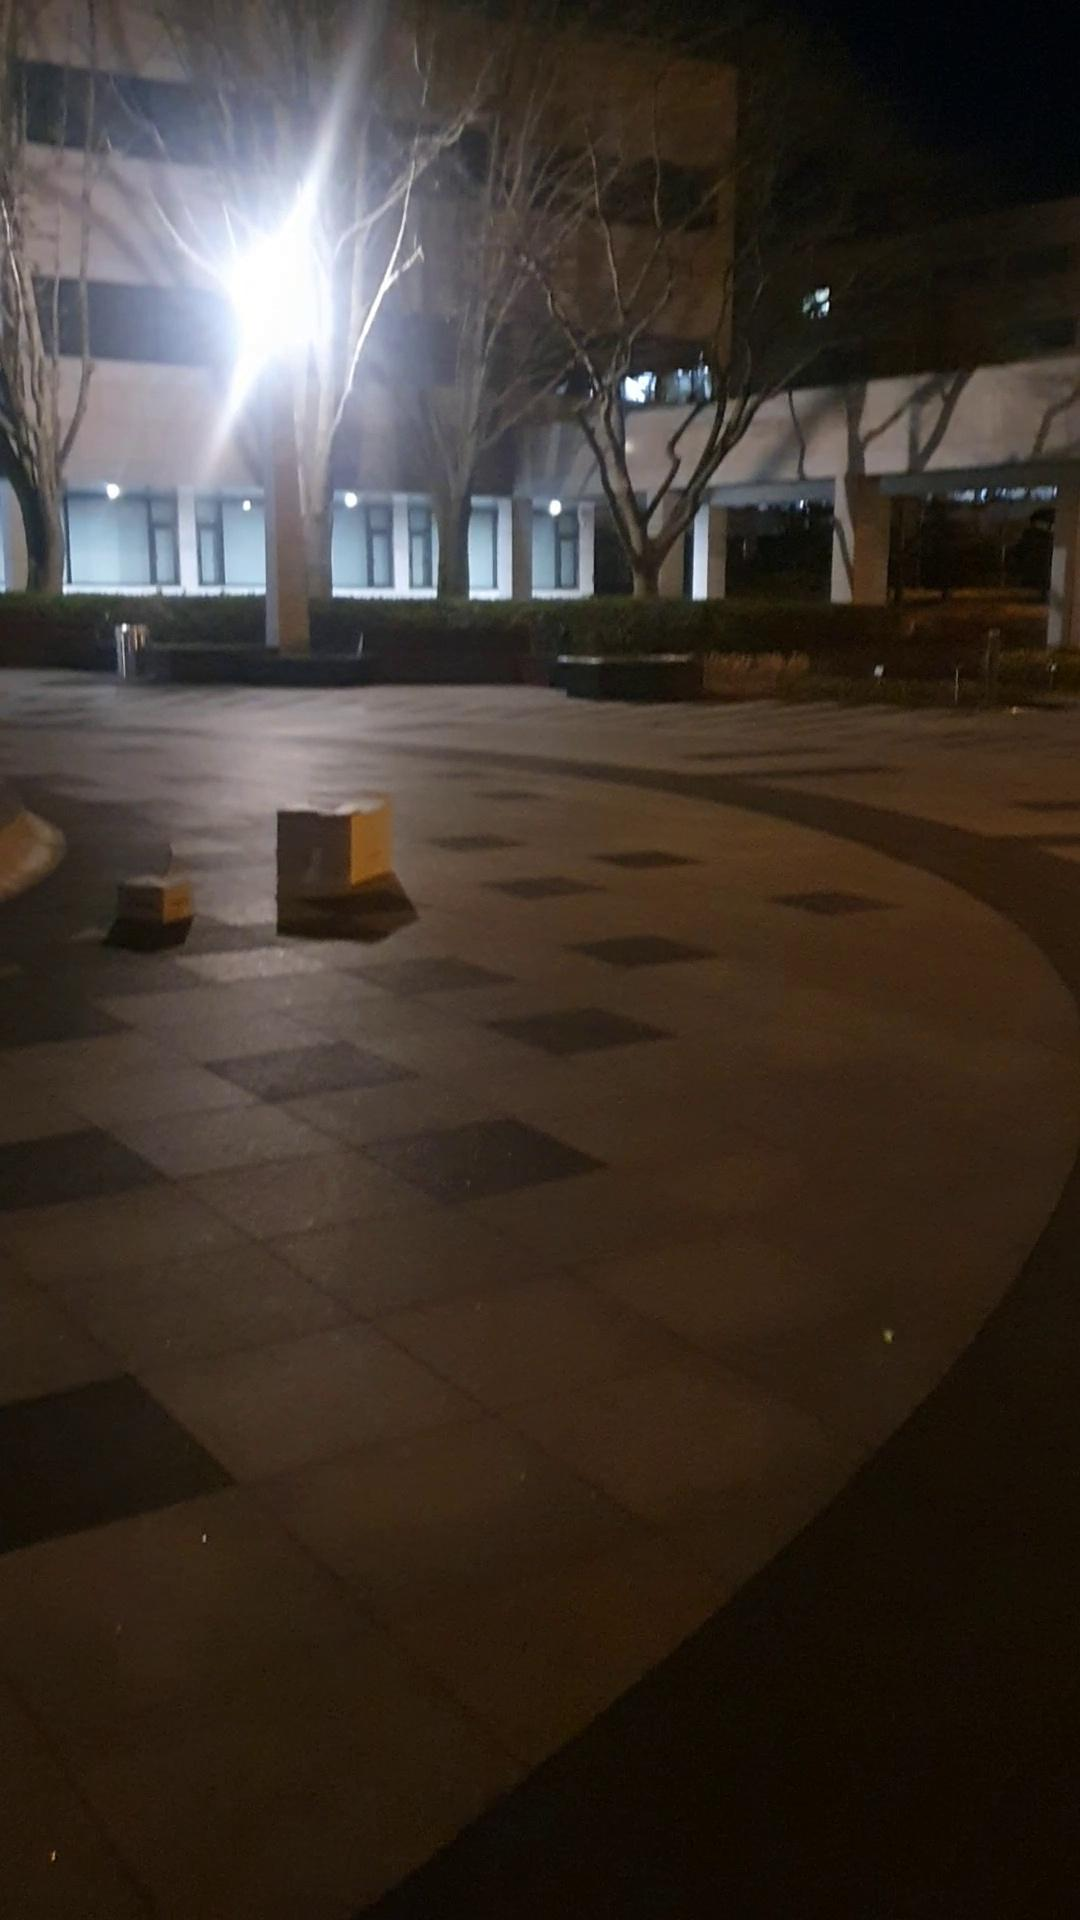Box: (272, 783, 393, 898), (113, 868, 187, 928)
